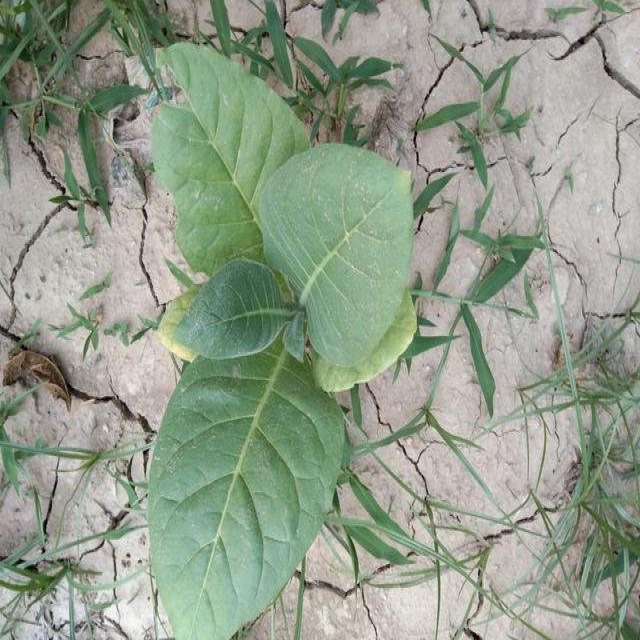crop: (142, 53, 413, 640)
